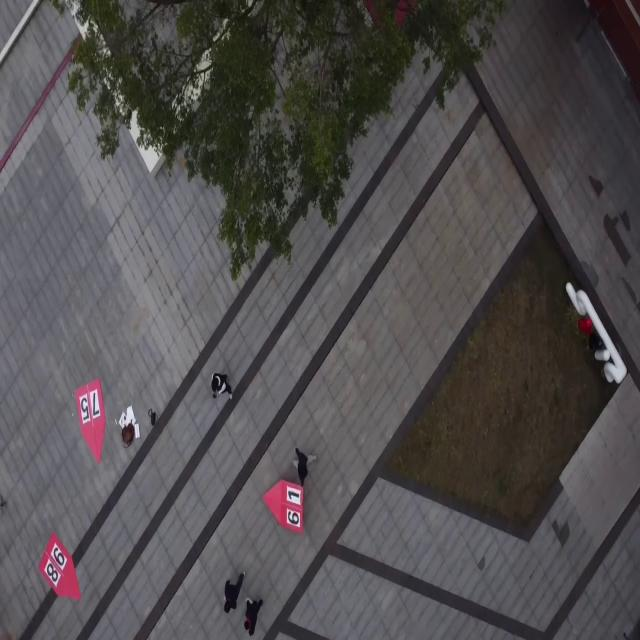-sign-: (34, 532, 86, 610), (77, 374, 110, 470), (261, 479, 312, 538)
